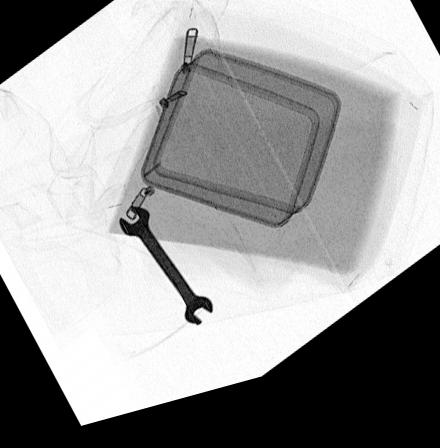Wrench: (118, 212, 211, 339)
